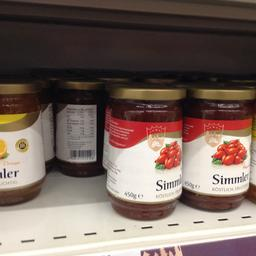jam: (105, 84, 186, 220), (180, 86, 254, 212), (0, 80, 45, 206), (52, 78, 106, 177)
